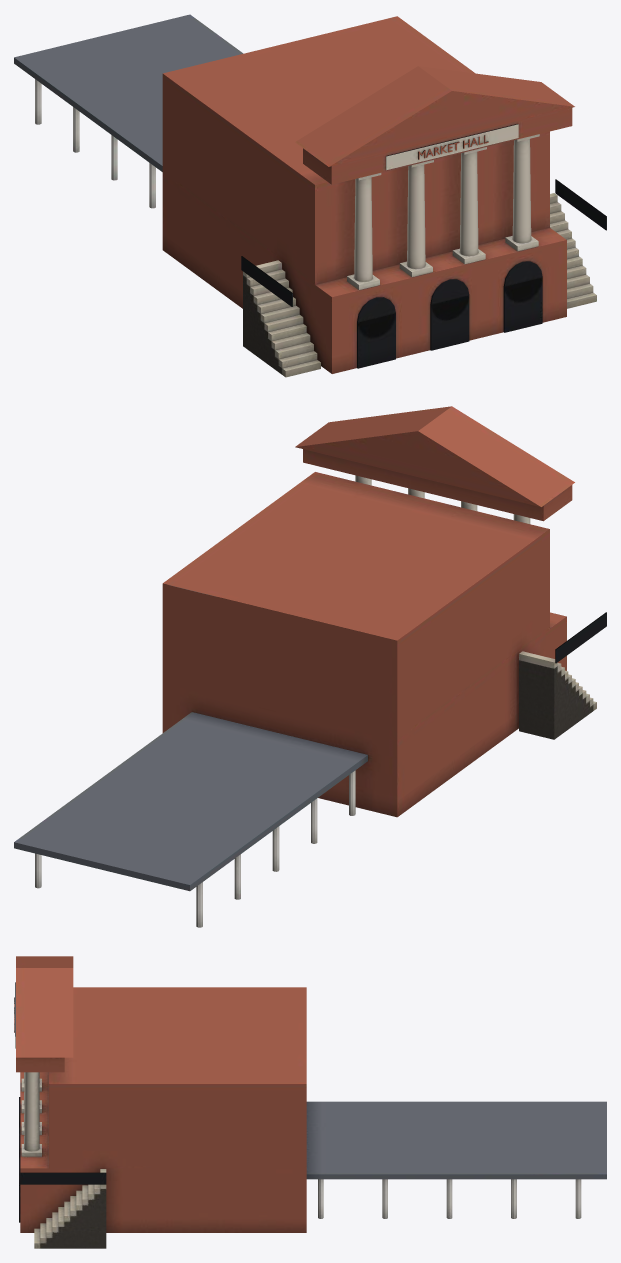
File: mercado_charleston.glb
3 renders of one model, top to bottom at view 1: azimuth 30°, elevation 25°; view 2: azimuth 150°, elevation 25°; view 3: azimuth 270°, elevation 25°, orthographic. The views are drawn at different scales.
Parts seen in each view (by area): view 1: mercado_charleston; view 2: mercado_charleston; view 3: mercado_charleston.
Boxes of the visible parts, <box> form: mercado_charleston: <box>14,14,606,377</box>; mercado_charleston: <box>14,406,606,927</box>; mercado_charleston: <box>14,956,606,1248</box>.
Bounding box in the file's own units: 21.46 × 16.7 × 41.45.
Materials: 1 (1 with a texture image).
